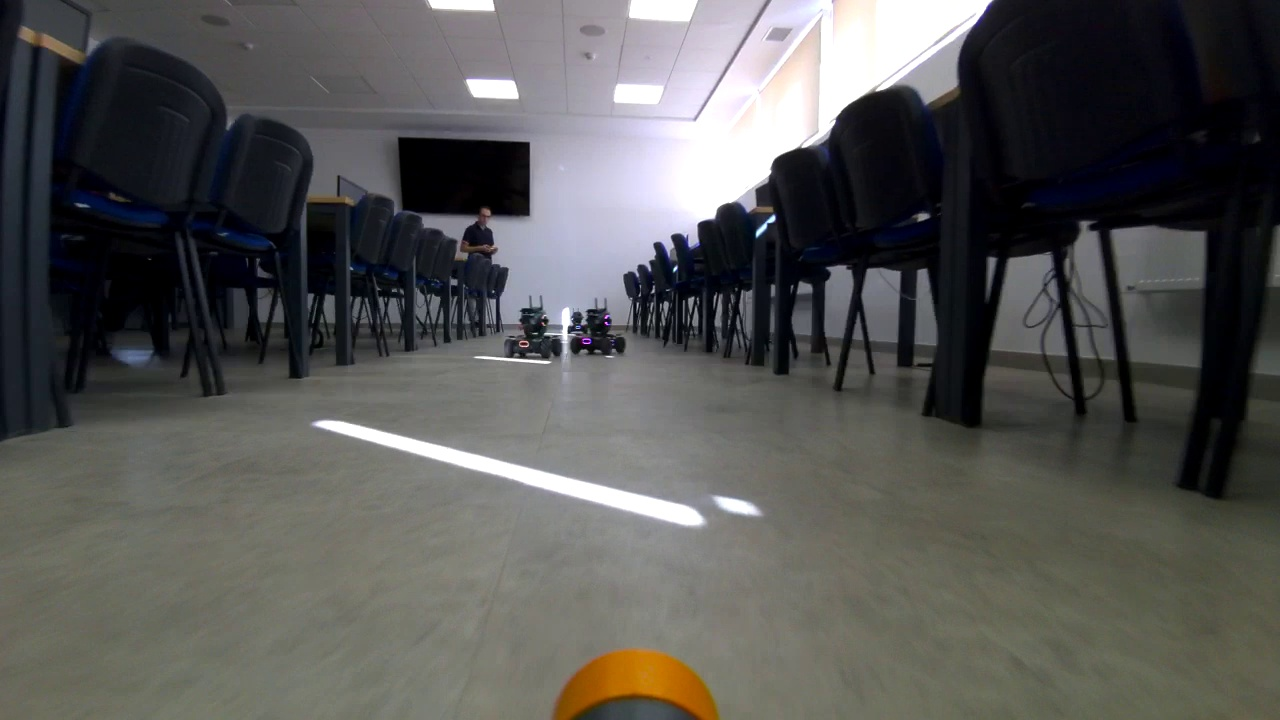robot: (500, 302, 564, 362), (569, 310, 633, 357)
